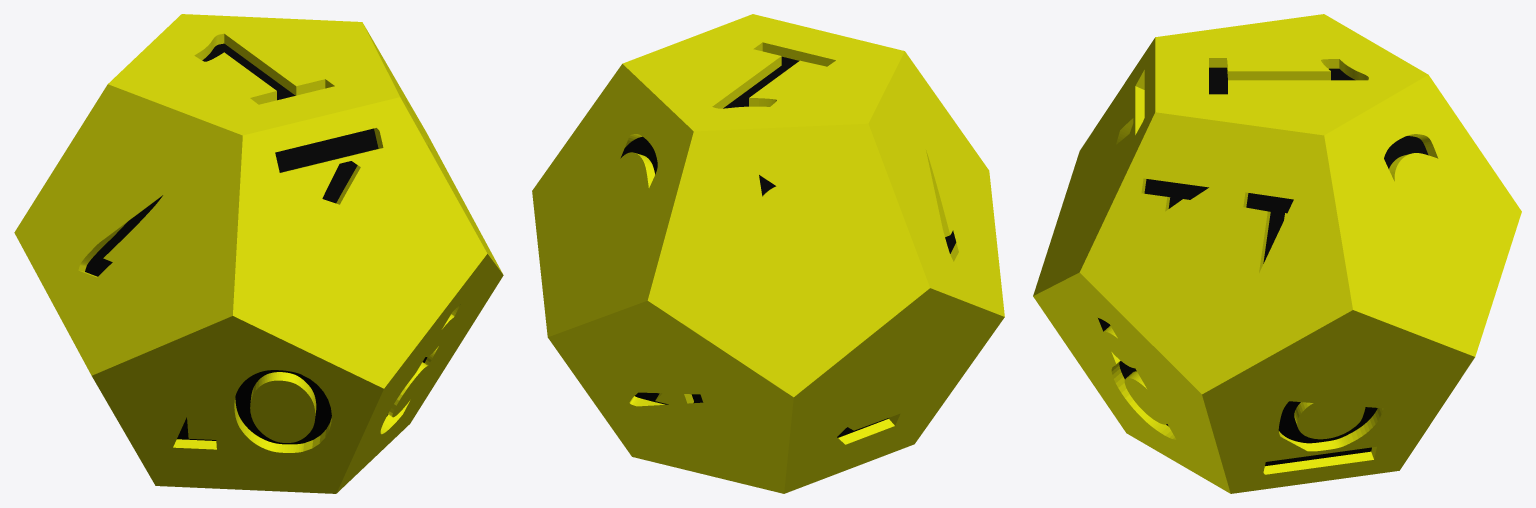
3 views of the same model, side by side, from view 1: azimuth 30°, elevation 25°; view 2: azimuth 150°, elevation 25°; view 3: azimuth 270°, elevation 25° (orthographic). The views are drawn at different scales.
Visible parts, largest first — view 1: Solid; view 2: Solid; view 3: Solid.
Boxes of the visible parts, x1=… form: Solid: x1=14, y1=14, x2=503, y2=493; Solid: x1=532, y1=14, x2=1004, y2=493; Solid: x1=1033, y1=14, x2=1521, y2=493.
Bounding box in the file's own units: 2175 × 1850 × 2287.
